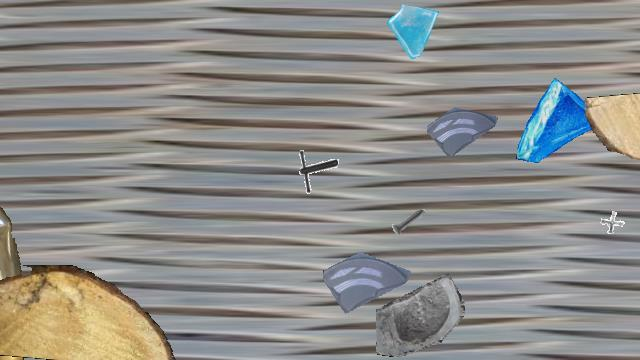glass: (514, 77, 608, 171), (376, 271, 464, 359), (323, 234, 411, 322), (427, 91, 499, 163), (386, 1, 444, 59)
metal: (290, 147, 338, 195), (388, 201, 430, 243), (594, 203, 634, 243)
plastic: (0, 175, 36, 359), (0, 1, 10, 357)
wood: (0, 265, 179, 359), (585, 91, 640, 159), (0, 253, 7, 359)
